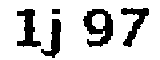1: (12, 6, 48, 52)
7: (121, 5, 153, 51)
9: (78, 5, 116, 51)
j: (39, 3, 61, 60)
